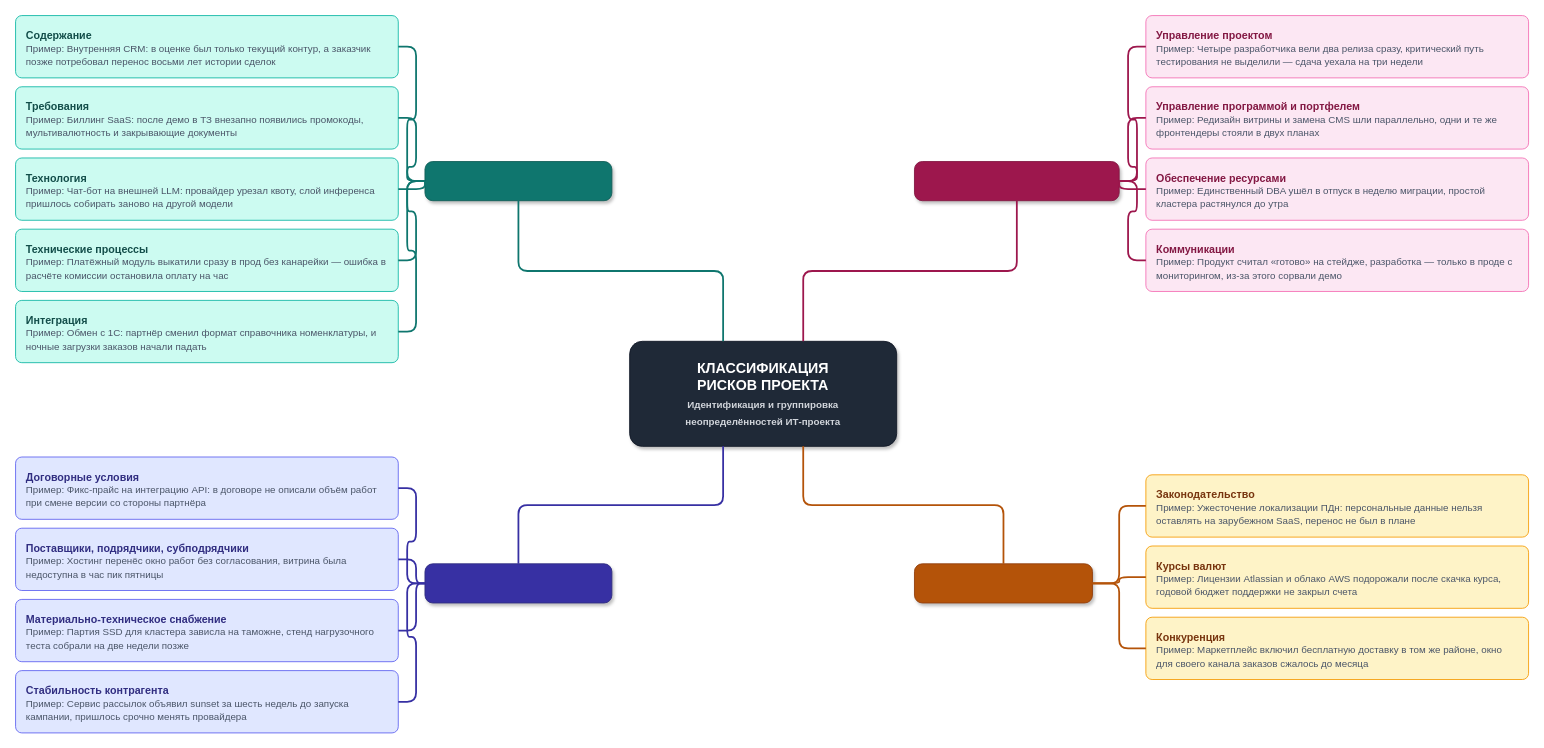
Some shapes in this 1544 by 748 pixel diagram are drawn without their labels. Each missing label, with the centre of its shape:
"ВНЕШНИЙ РИСК" belongs at point 1004,584.
"КОММЕРЧЕСКИЙ РИСК" belongs at point 519,584.
"ТЕХНИЧЕСКИЙ РИСК" belongs at point 519,182.
"УПРАВЛЕНЧЕСКИЙ РИСК" belongs at point 1017,182.
